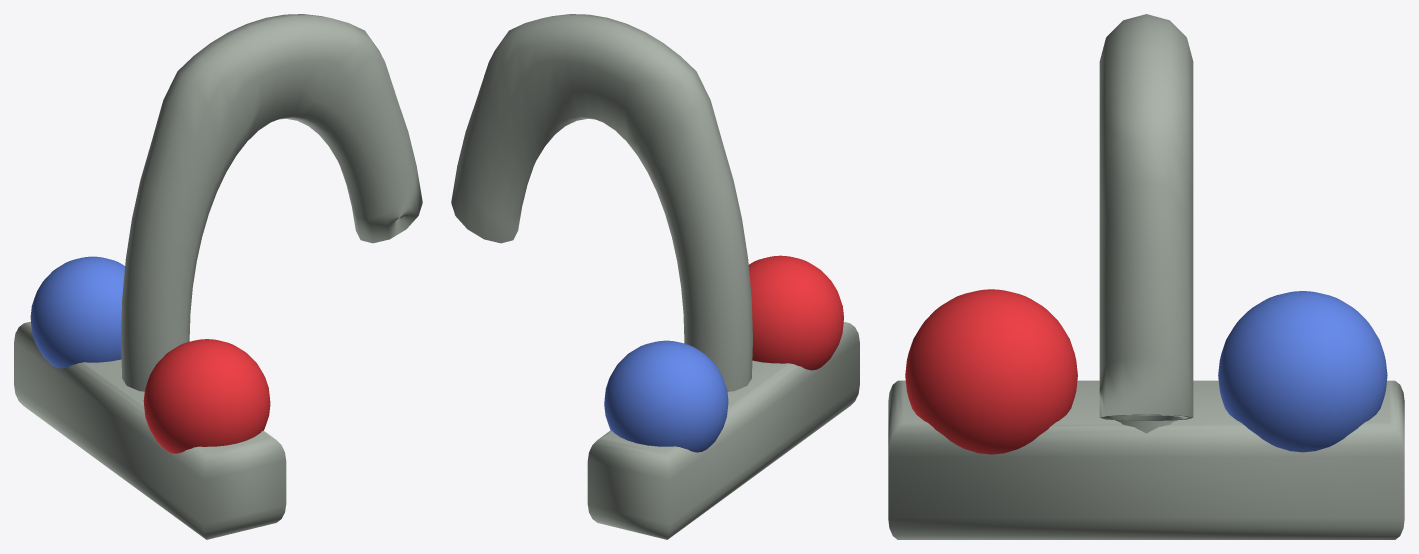
The model's file is musluk.fbx.
3 views of the same model, side by side, from view 1: azimuth 30°, elevation 25°; view 2: azimuth 150°, elevation 25°; view 3: azimuth 270°, elevation 25° (orthographic). The views are drawn at different scales.
Visible parts, largest first — view 1: Torus; view 2: Torus; view 3: Torus.
Boxes of the visible parts, x1,y1,x2,y2 form: Torus: [14, 14, 422, 539]; Torus: [451, 14, 859, 539]; Torus: [888, 14, 1404, 539].
Bounding box in the file's own units: 786 × 967 × 800.
